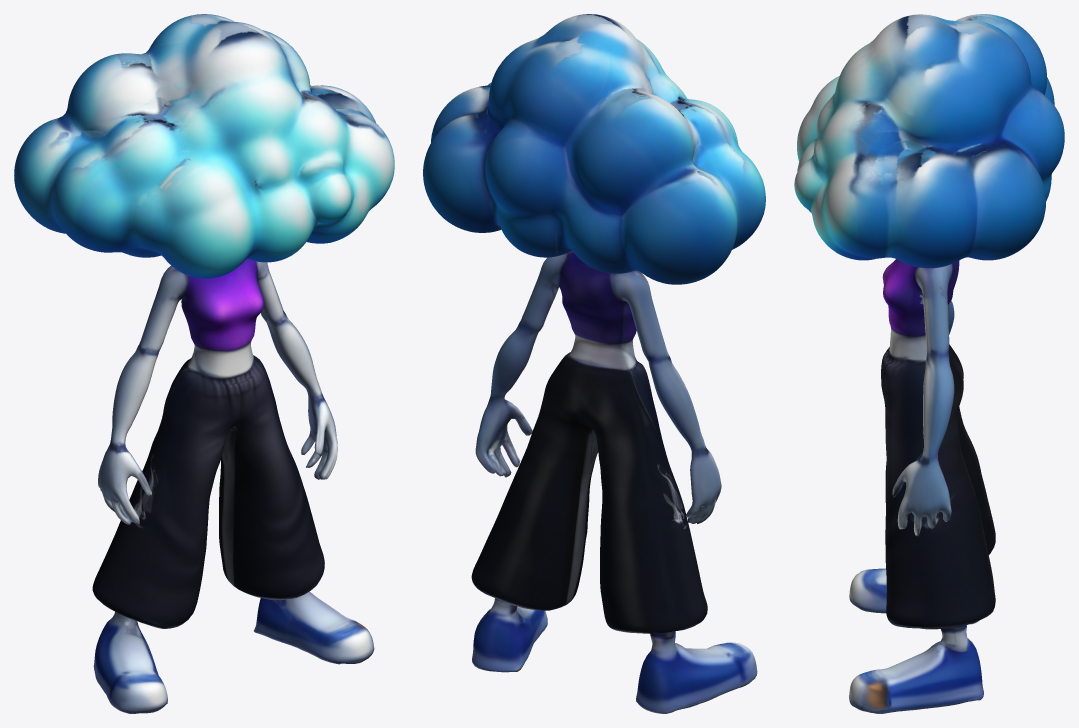
The model's file is Cloudy_Companion_1106141442.obj.
The picture shows the model from 3 angles, left to right: view 1: azimuth 30°, elevation 25°; view 2: azimuth 150°, elevation 25°; view 3: azimuth 270°, elevation 25°; orthographic projection.
Visible parts, largest first — view 1: Cloudy_Companion_1106141442; view 2: Cloudy_Companion_1106141442; view 3: Cloudy_Companion_1106141442.
Boxes of the visible parts, left/top/right/bottom form: Cloudy_Companion_1106141442: left=14, top=14, right=394, bottom=713; Cloudy_Companion_1106141442: left=423, top=14, right=765, bottom=713; Cloudy_Companion_1106141442: left=794, top=14, right=1064, bottom=713.
Size of the model in its own units: 1.05 by 2 by 0.7647.
Materials: 1 (1 with a texture image).
